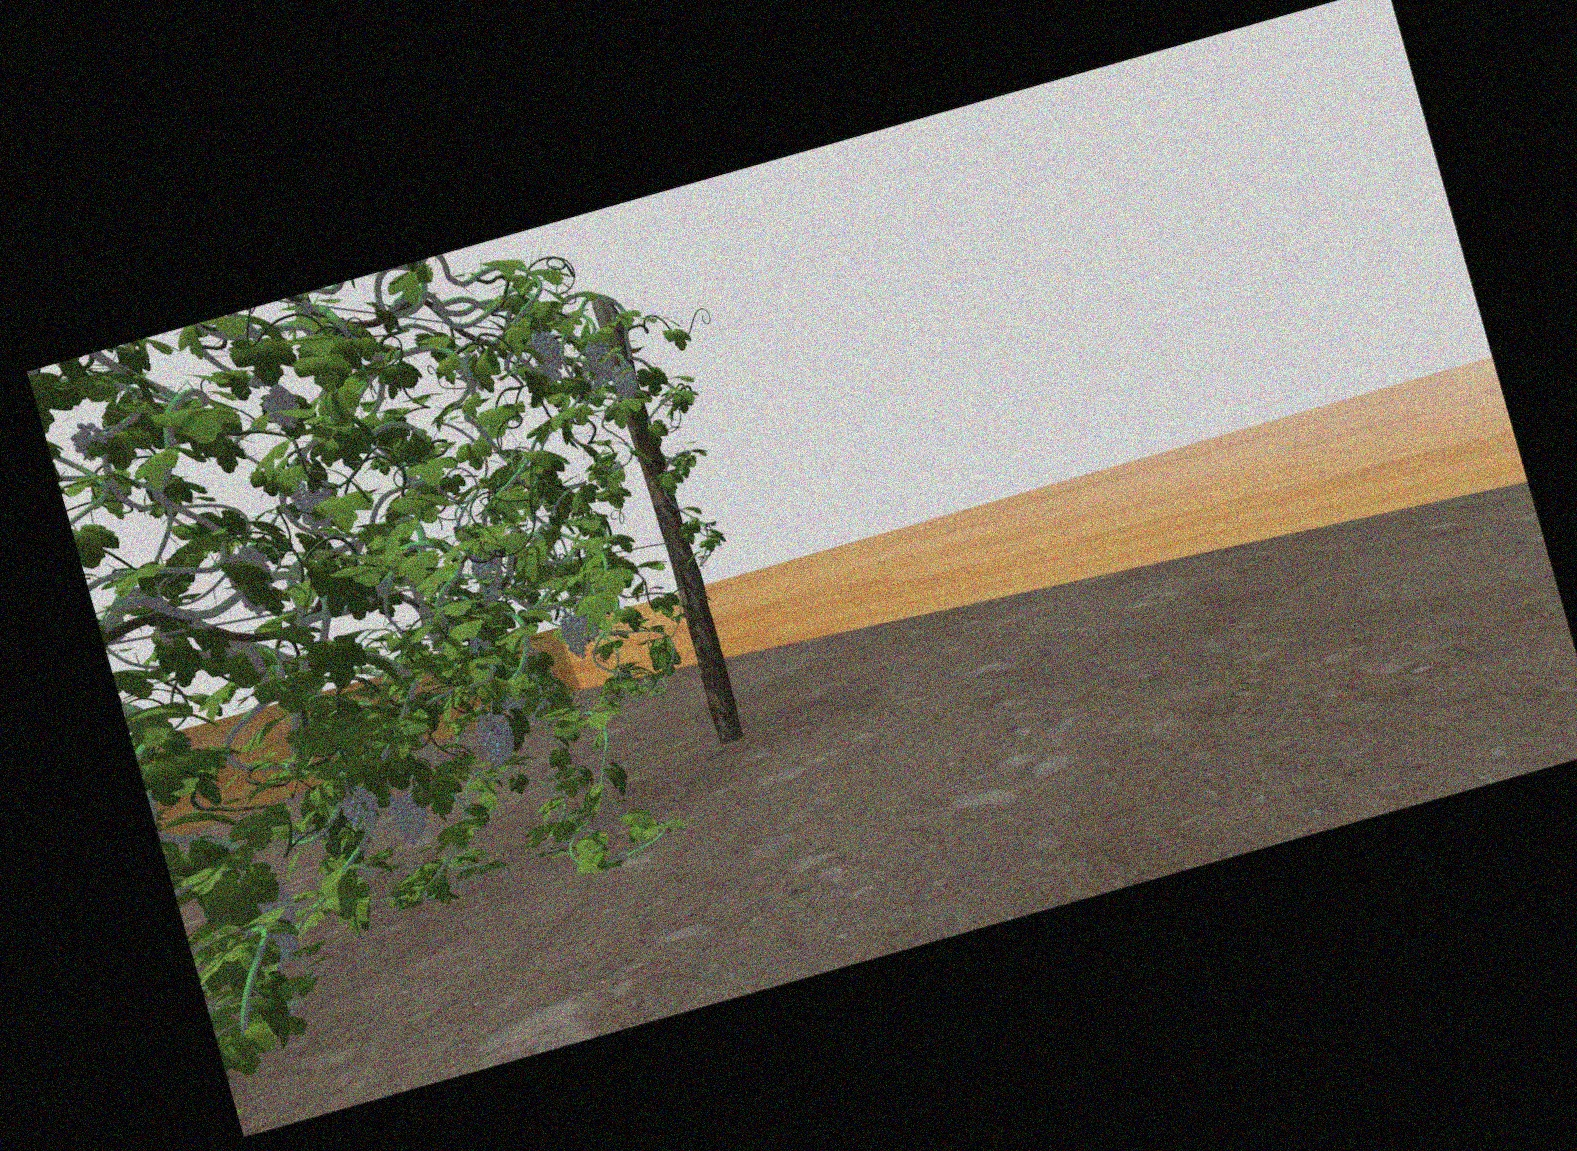grape: (260, 891, 301, 962), (388, 785, 429, 844), (478, 710, 514, 768), (343, 787, 380, 831), (531, 331, 562, 382), (261, 387, 300, 426), (70, 420, 107, 458), (585, 340, 616, 386), (473, 551, 506, 593), (561, 613, 588, 659), (613, 362, 637, 400)
